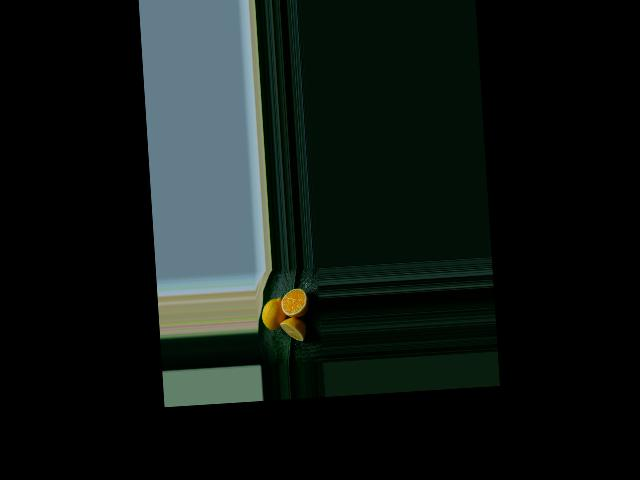lemon: (260, 291, 289, 331)
